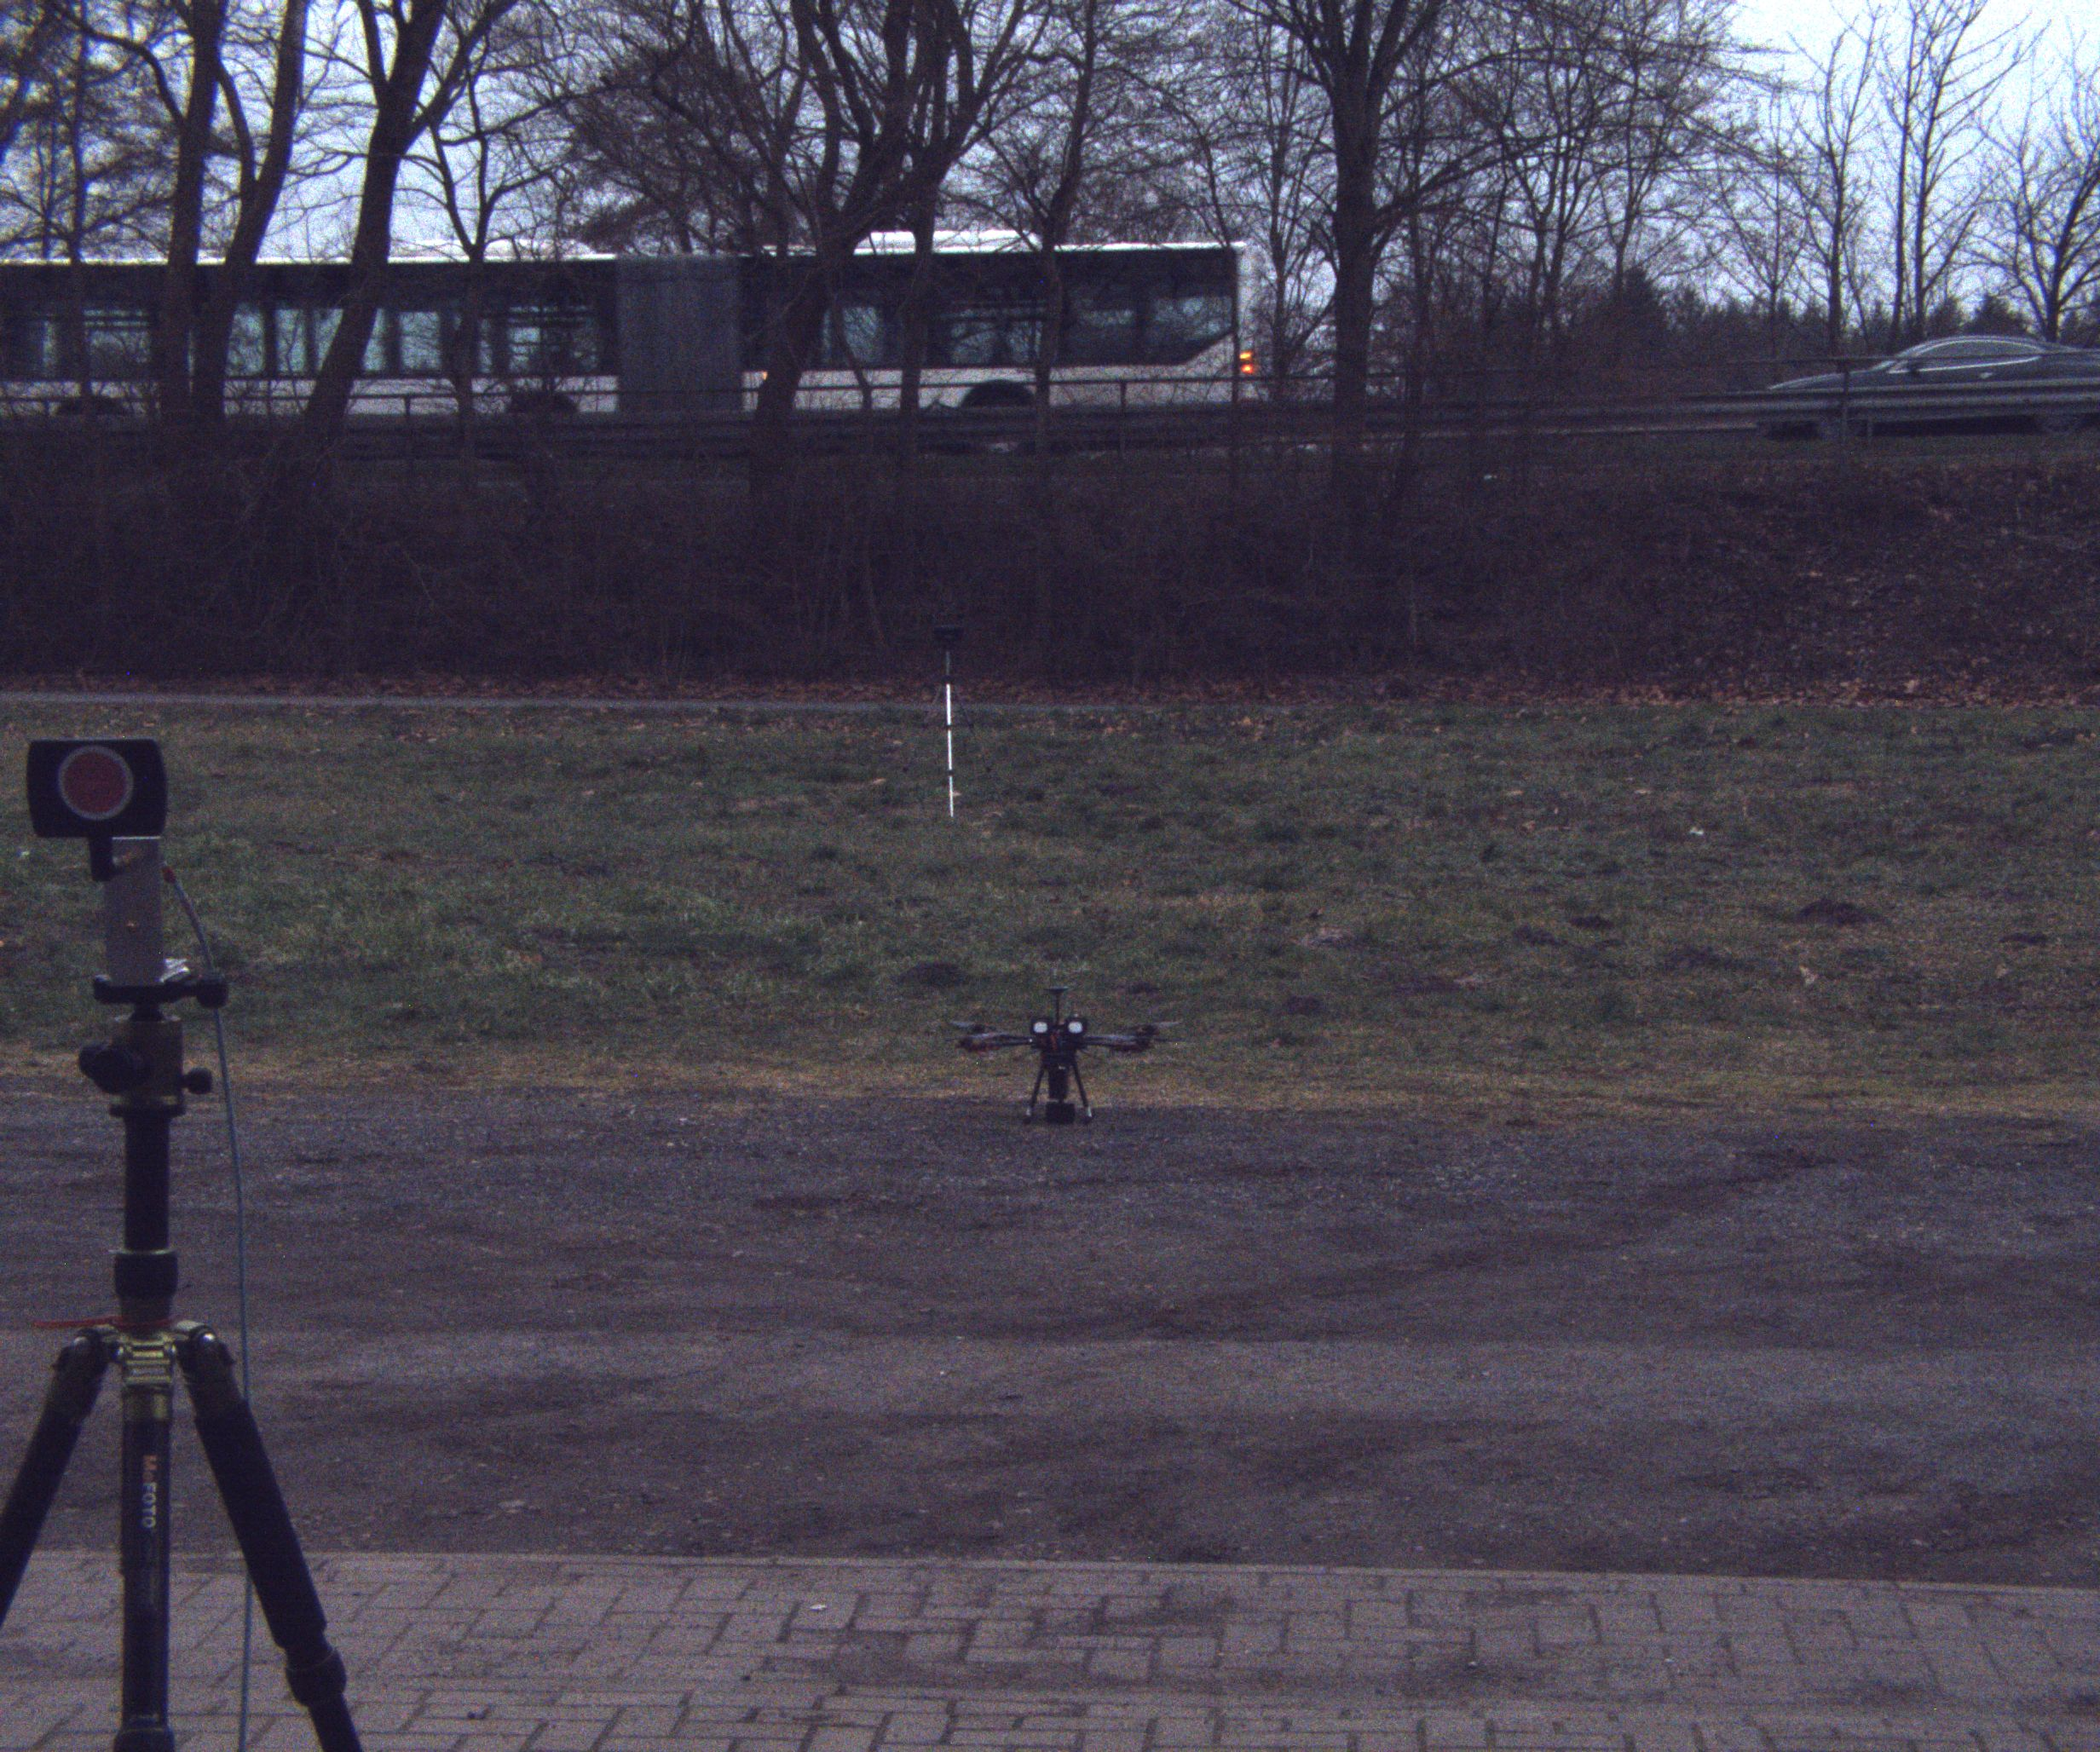Drohne: (945, 971, 1224, 1178)
